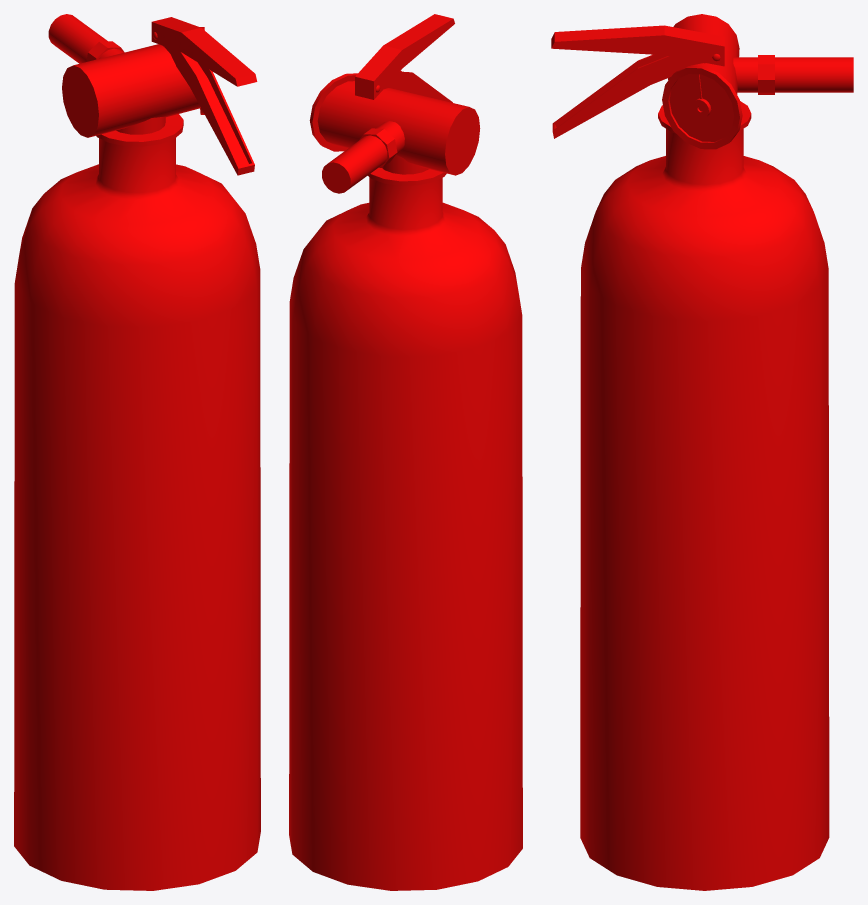
The model's file is SM_Extngshr.fbx.
3 renders of one model, left to right at view 1: azimuth 30°, elevation 25°; view 2: azimuth 150°, elevation 25°; view 3: azimuth 270°, elevation 25°, orthographic. The views are drawn at different scales.
Parts seen in each view (by area): view 1: main_body, dial, squeeze2, squeeze1, Nozzle; view 2: main_body, dial, squeeze1, Nozzle, squeeze2; view 3: main_body, dial, squeeze1, Nozzle, squeeze2.
Boxes of the visible parts, x1,y1,x2,y2 form: main_body: [14, 114, 260, 890]; dial: [62, 27, 204, 137]; squeeze2: [163, 46, 254, 175]; squeeze1: [151, 17, 257, 86]; Nozzle: [48, 14, 124, 63]; main_body: [289, 155, 522, 890]; dial: [309, 73, 480, 175]; squeeze1: [355, 14, 454, 99]; Nozzle: [322, 121, 404, 193]; squeeze2: [383, 70, 452, 102]; main_body: [580, 101, 829, 890]; dial: [662, 14, 742, 149]; squeeze1: [551, 25, 724, 66]; Nozzle: [733, 55, 853, 94]; squeeze2: [552, 54, 705, 138].
Bounding box in the file's own units: 41.31 × 149 × 49.55.
